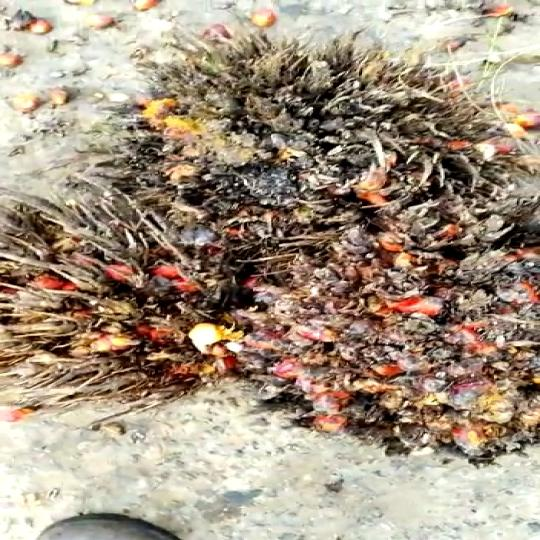terlalu masak: (94, 38, 539, 242), (222, 214, 540, 464), (0, 197, 268, 388)
